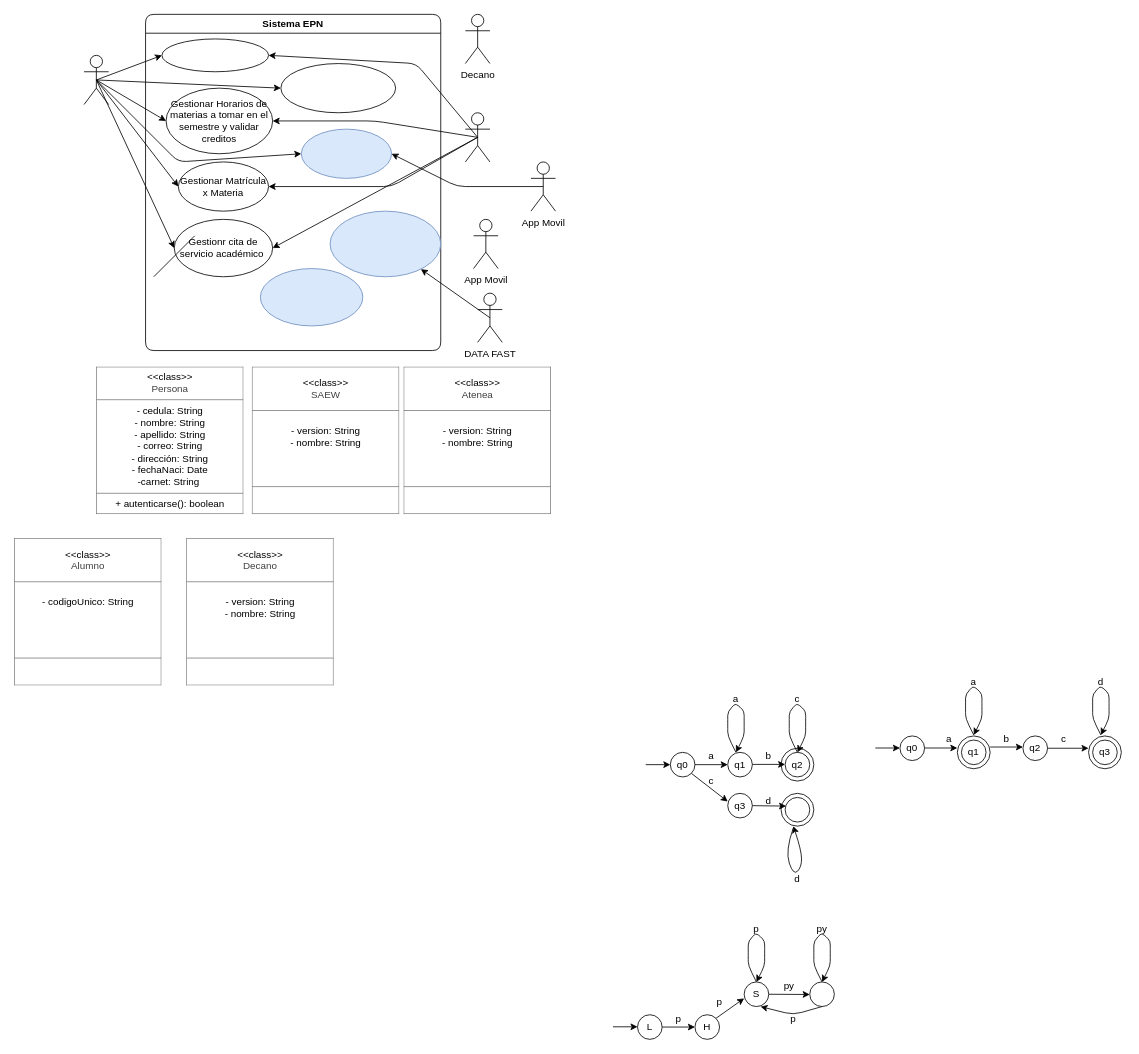
This 1139x1054 diagram has some shape labels left out. Here are the shapes that lost their labels. From the top down, the box of each, then its label:
(161, 38, 269, 72): Tramitar Certificado académico
(83, 55, 109, 105): Alumno
(280, 63, 396, 113): Visualizar información académica del alumno
(301, 128, 392, 178): Visualizar comprobrante d la matrícula o pagar la matrícula
(465, 112, 490, 162): SAEW
(329, 210, 441, 277): Pagar matrícula en el sistema con trjeta de crédito
(260, 268, 363, 326): Pagar matrícula en tesoreria en efectivo
(784, 797, 810, 822): q4
(809, 981, 834, 1007): SS
